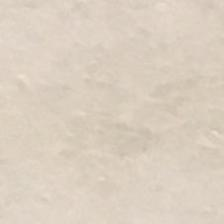Non_Crack: (34, 30, 190, 181)
